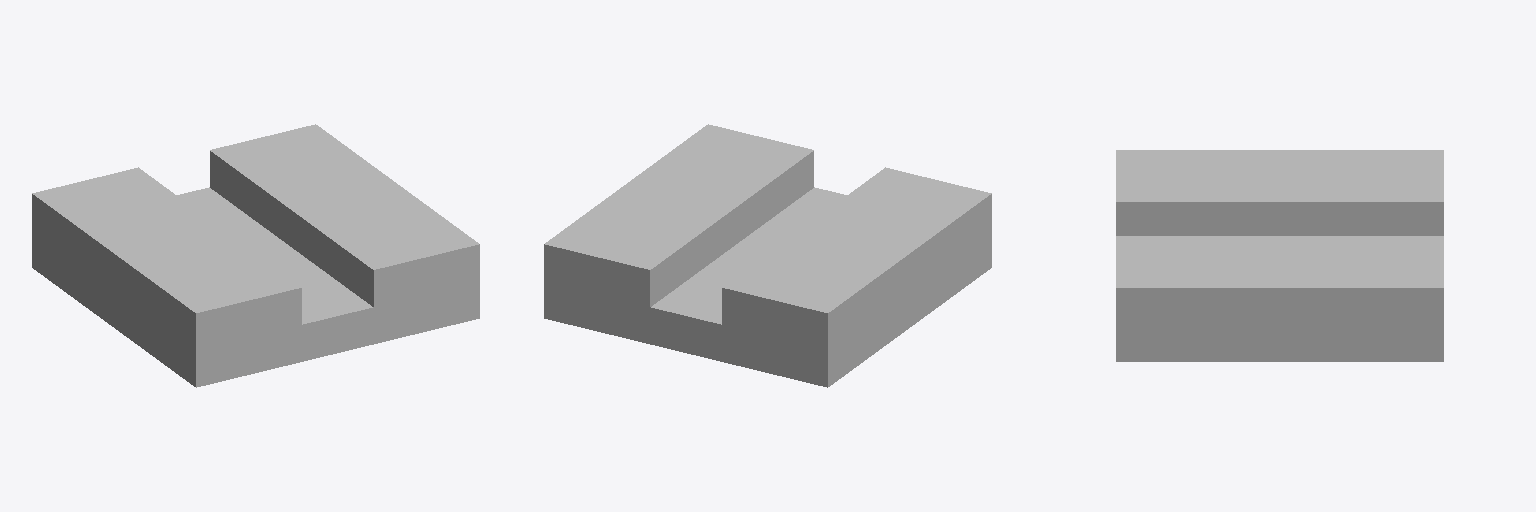
The model's file is river.obj.
The picture shows the model from 3 angles: view 1: azimuth 30°, elevation 25°; view 2: azimuth 150°, elevation 25°; view 3: azimuth 270°, elevation 25°; orthographic projection.
Visible parts, largest first — view 1: object 1; view 2: object 1; view 3: object 1.
Part boxes in pixels (bbox=[...]): object 1: bbox=[32, 124, 479, 387]; object 1: bbox=[544, 124, 991, 387]; object 1: bbox=[1116, 150, 1443, 361].
Size of the model in its own units: 0.8 by 0.2 by 0.8.